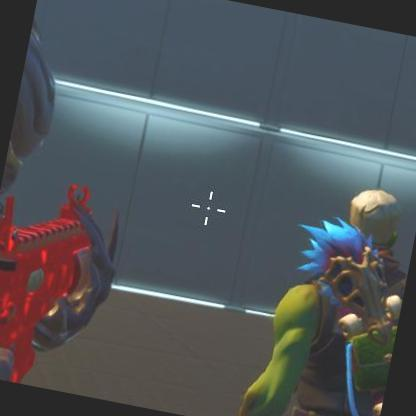person: (274, 177, 403, 416)
